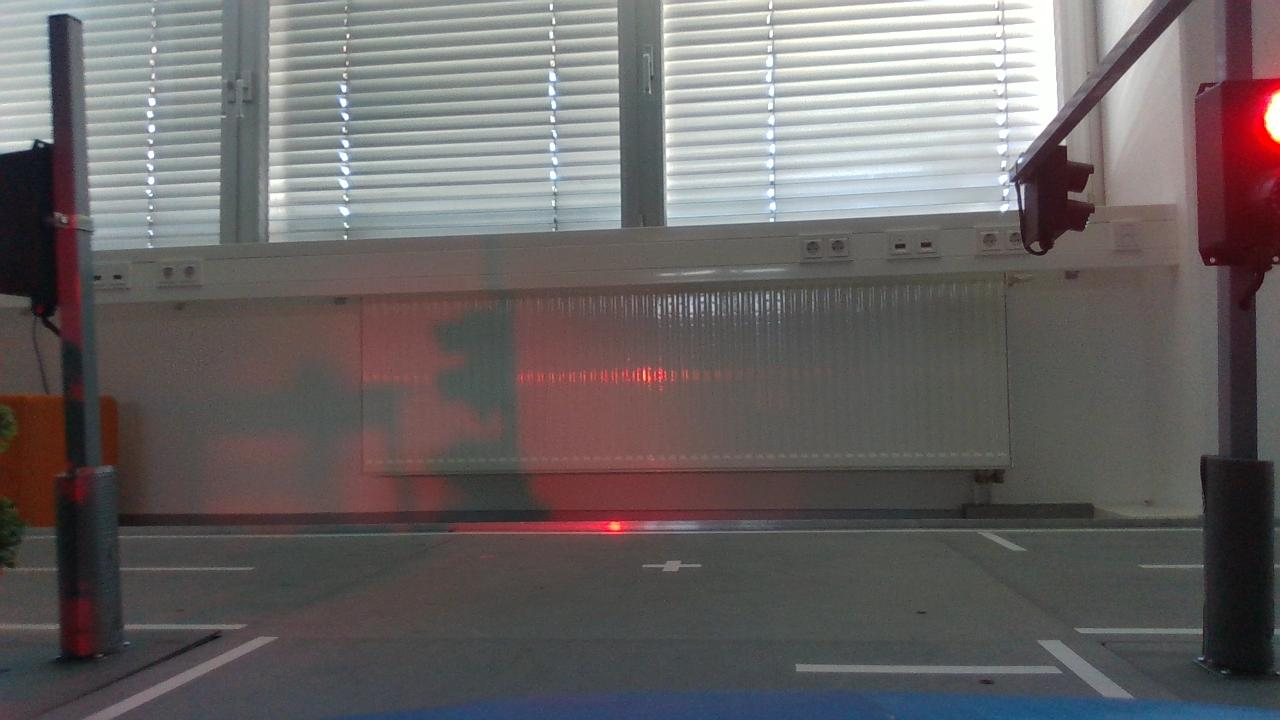traffic_light_red: (1183, 68, 1280, 297)
